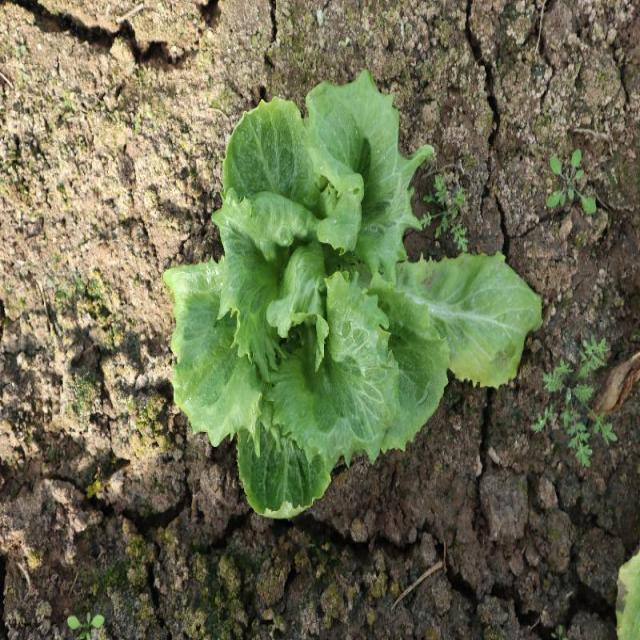crop: (176, 78, 447, 518)
